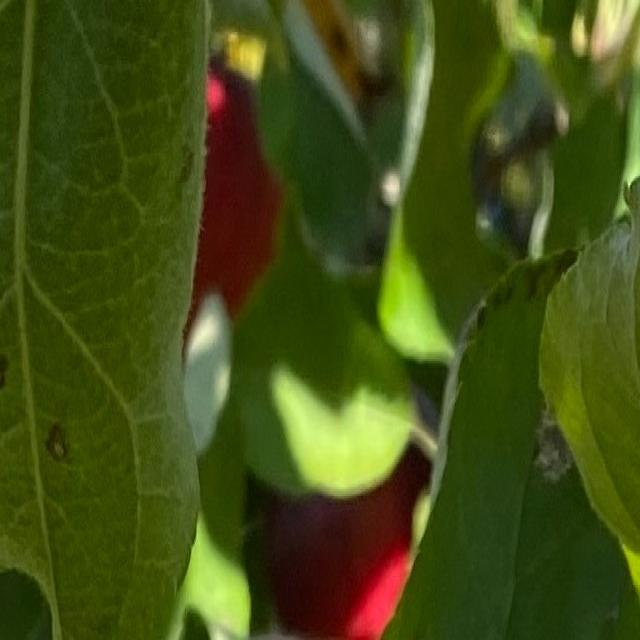100-_ripeness: (267, 455, 413, 640), (183, 69, 283, 331)
